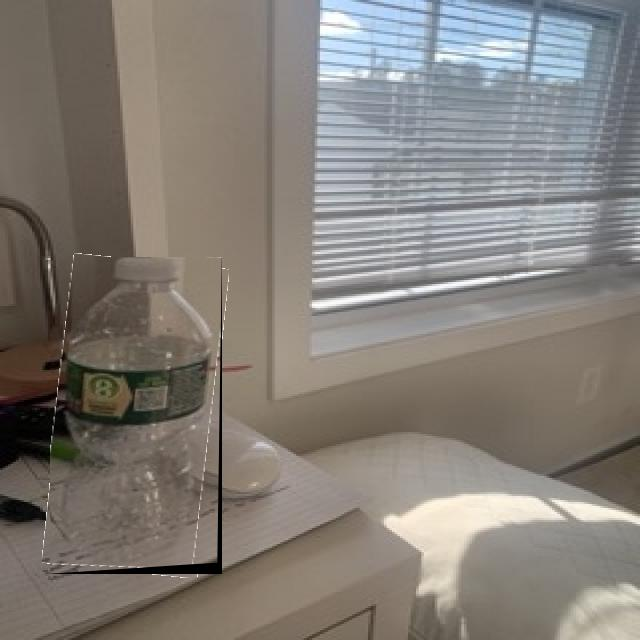water_bottle: (50, 257, 222, 574)
